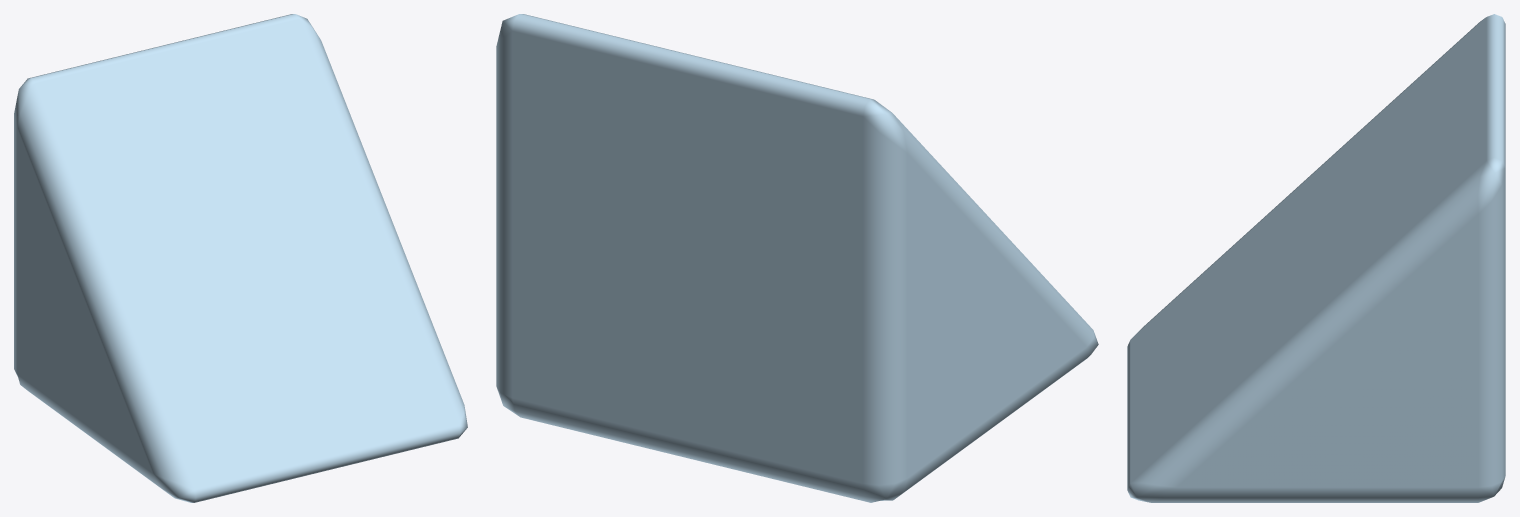
Rendered from R4B_Wedge.glb.
The picture shows the model from 3 angles, left to right: view 1: azimuth 30°, elevation 25°; view 2: azimuth 150°, elevation 25°; view 3: azimuth 270°, elevation 25°; orthographic projection. The views are drawn at different scales.
Visible parts, largest first — view 1: R4B_Wedge; view 2: R4B_Wedge; view 3: R4B_Wedge.
Part boxes in pixels (x1,y1,x2,y2): R4B_Wedge: (14, 14, 467, 502); R4B_Wedge: (496, 14, 1098, 502); R4B_Wedge: (1127, 14, 1505, 502).
Bounding box in the file's own units: 0.52 × 0.4989 × 0.4989.
